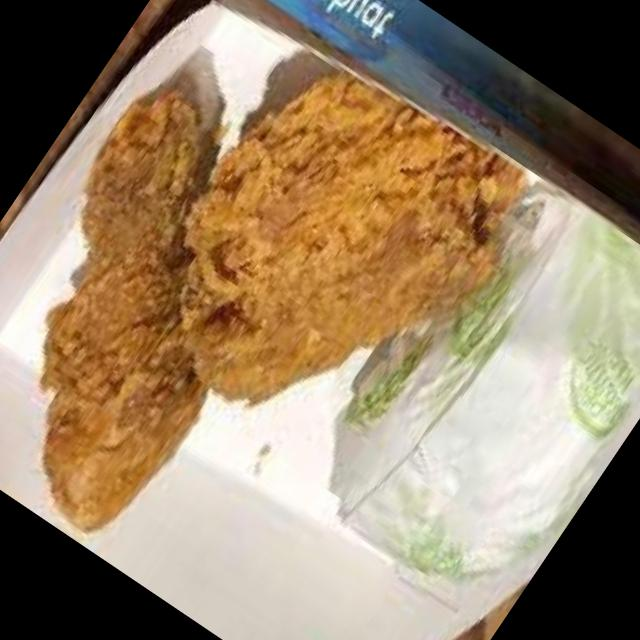Fried Chicken: (39, 67, 529, 533), (38, 85, 220, 536)
